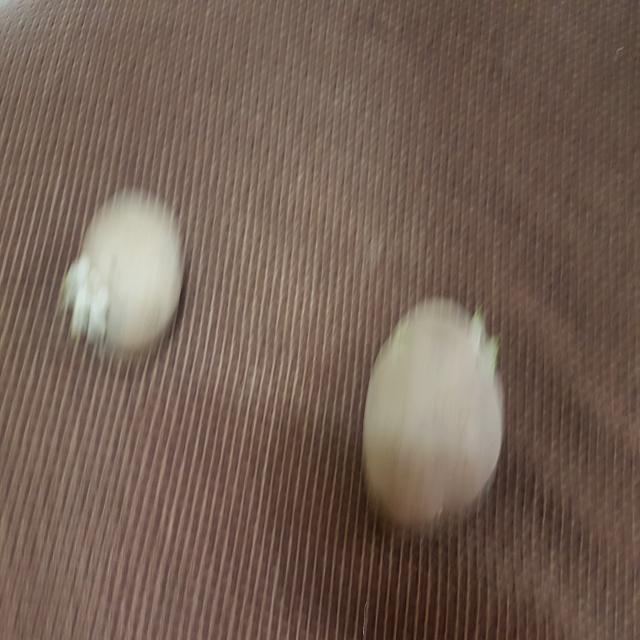potato: (351, 285, 522, 549), (49, 189, 207, 362)
